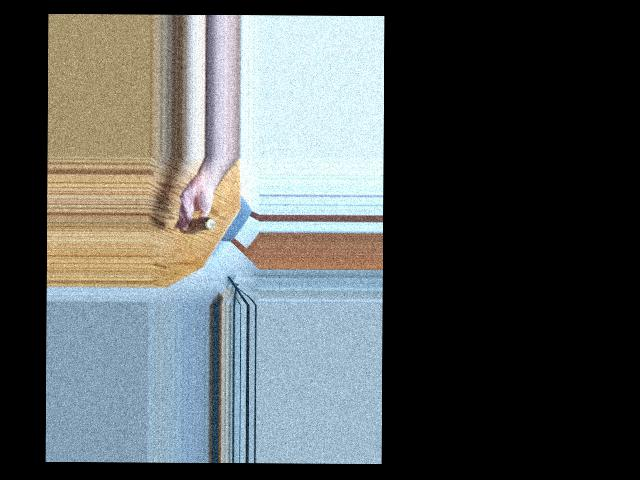sweet_potato: (177, 207, 220, 236)
